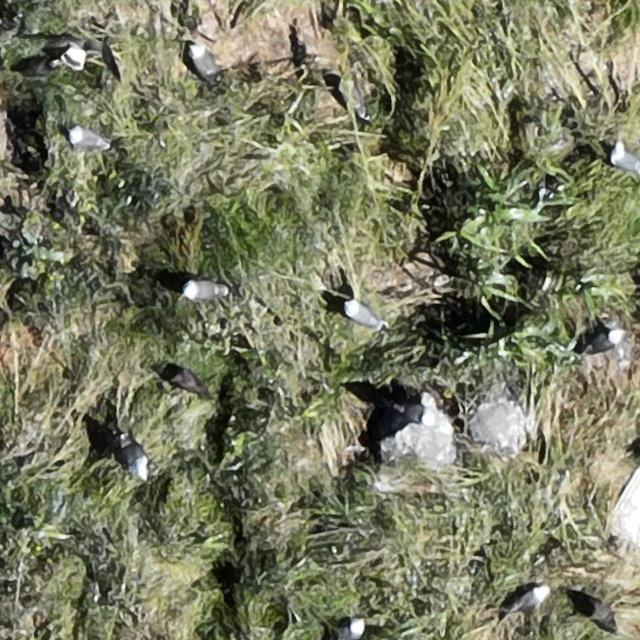umineko: (392, 398, 438, 426), (123, 441, 149, 477), (346, 302, 381, 328), (584, 330, 618, 354), (511, 586, 546, 609), (182, 282, 222, 302), (191, 46, 215, 79), (611, 147, 639, 174), (70, 128, 106, 148), (59, 45, 86, 70), (339, 620, 364, 640)
